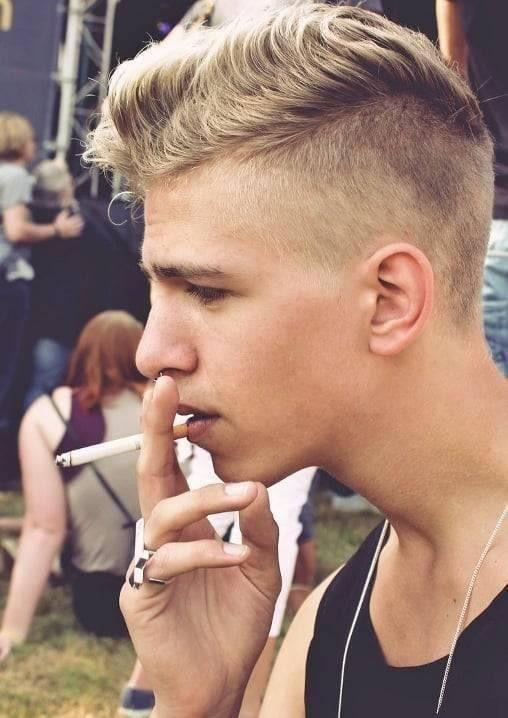cigarette: (54, 422, 189, 467)
